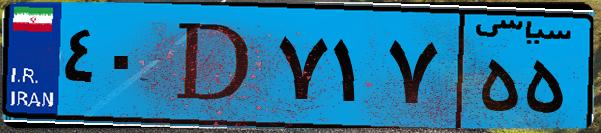0: (110, 28, 158, 98)
1: (330, 28, 385, 110)
4: (57, 26, 110, 100)
5: (475, 38, 525, 113), (525, 38, 570, 115)
7: (270, 28, 330, 110), (385, 28, 445, 110)
D: (158, 12, 270, 120)
